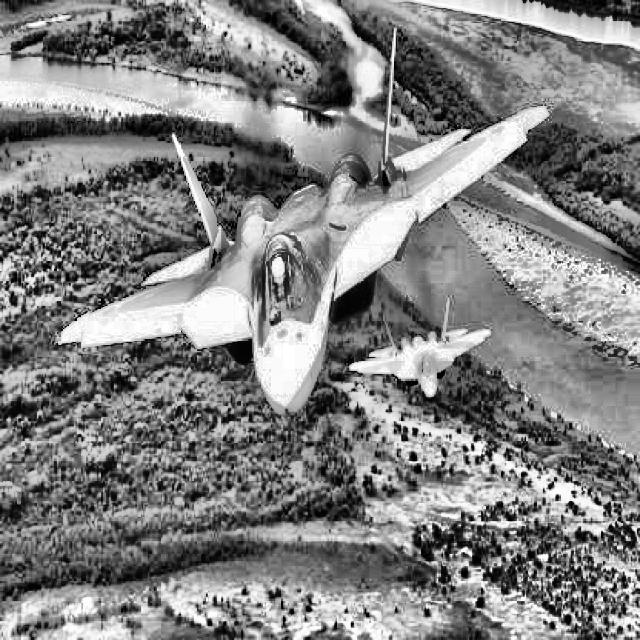Su57: (58, 26, 550, 419), (348, 297, 492, 401)
